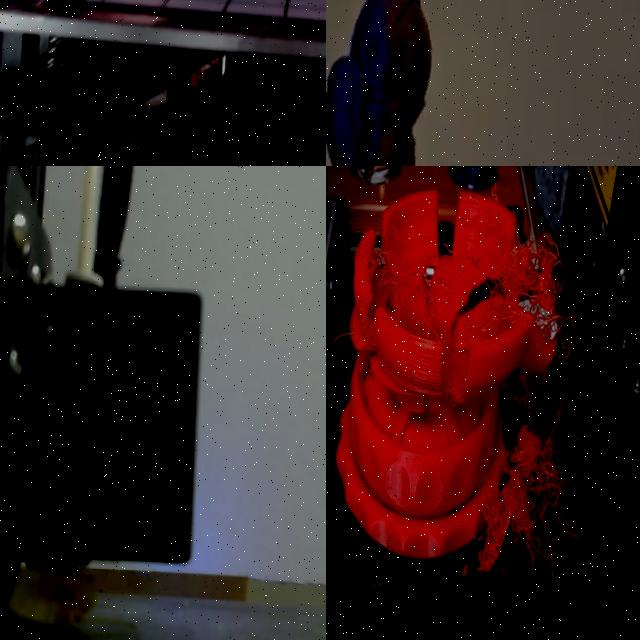spaghetti: (8, 566, 97, 624)
